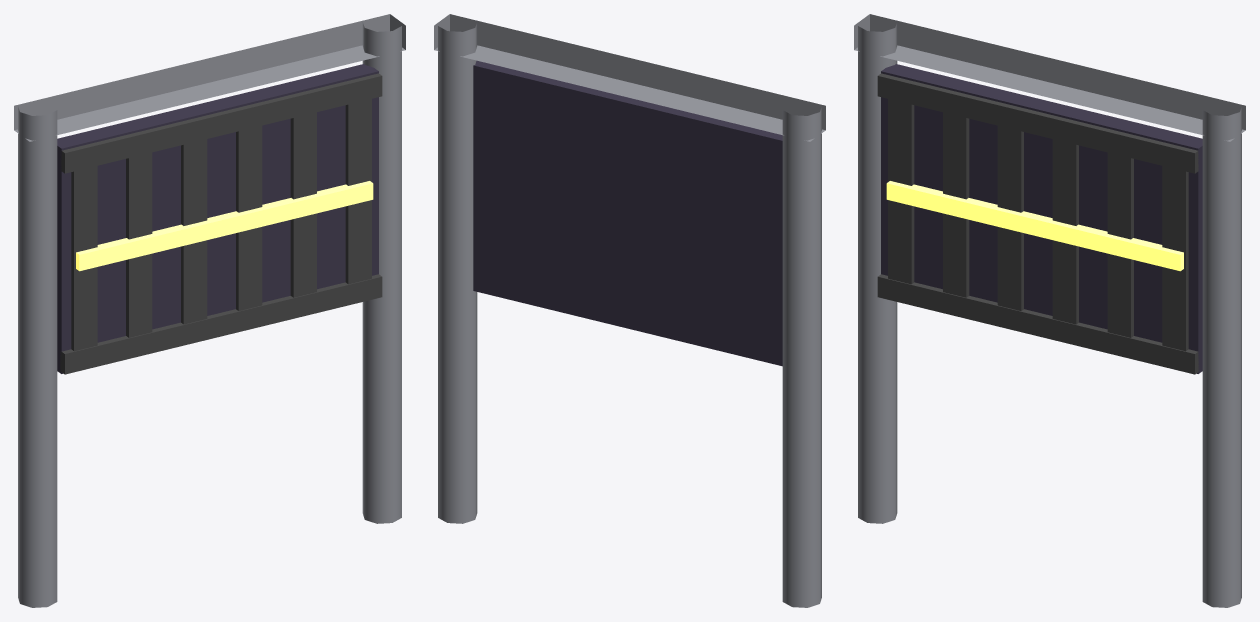
The model's file is gantry.glb.
3 renders of one model, left to right at view 1: azimuth 30°, elevation 25°; view 2: azimuth 150°, elevation 25°; view 3: azimuth 330°, elevation 25°, orthographic.
Parts seen in each view (by area): view 1: gantry; view 2: gantry; view 3: gantry.
Boxes of the visible parts, <box> form: gantry: <box>14,14,405,607</box>; gantry: <box>434,14,825,607</box>; gantry: <box>854,14,1245,607</box>.
Size of the model in its own units: 1.94 by 2.4 by 0.235.
